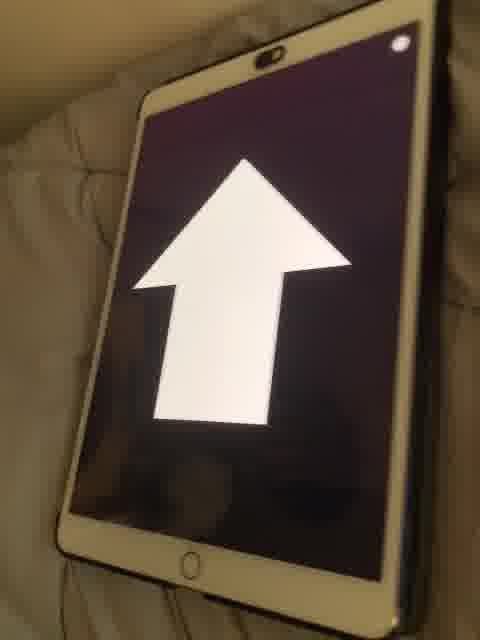up: (130, 150, 359, 431)
